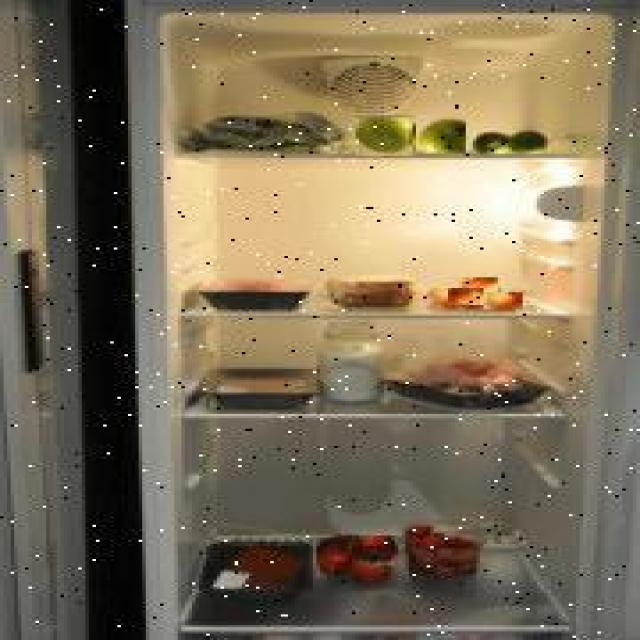apple: (356, 115, 412, 156), (418, 115, 468, 154)
carrot: (483, 292, 522, 310), (462, 278, 498, 296), (448, 289, 484, 306), (432, 288, 460, 309)
tomato: (318, 538, 354, 576), (363, 536, 398, 566), (354, 557, 389, 582)
